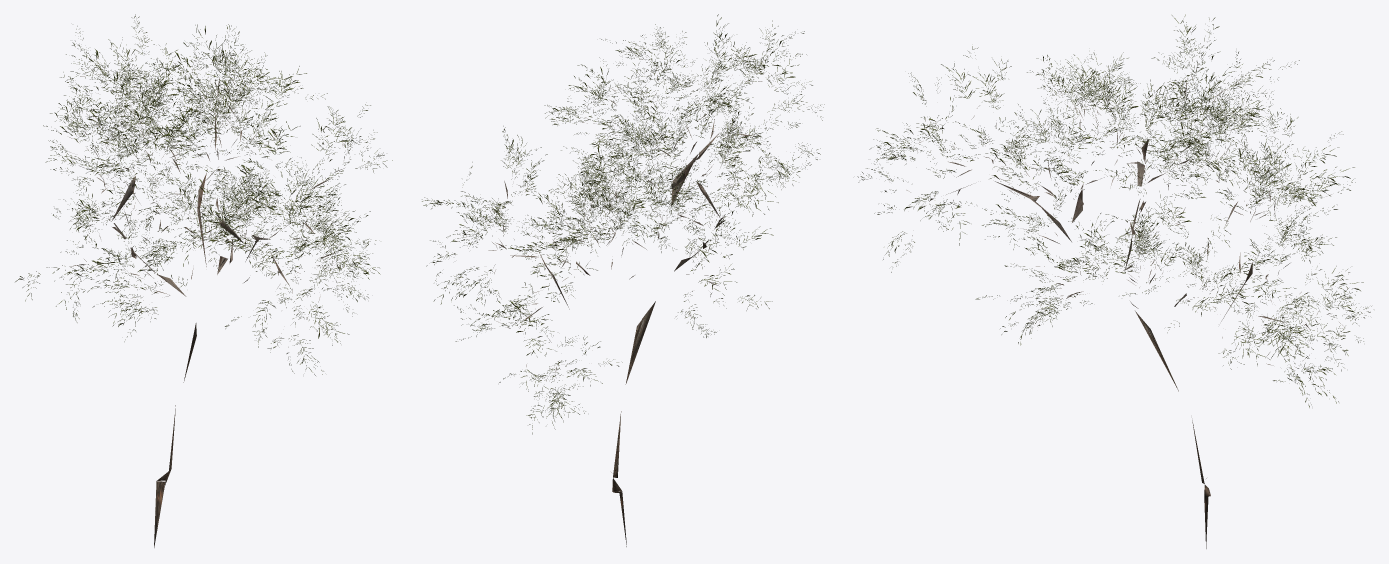
Rendered from street-tree.glb.
3 views of the same model, side by side, from view 1: azimuth 30°, elevation 25°; view 2: azimuth 150°, elevation 25°; view 3: azimuth 270°, elevation 25° (orthographic). The views are drawn at different scales.
Parts seen in each view (by area): view 1: tree_small_02_LOD0; view 2: tree_small_02_LOD0; view 3: tree_small_02_LOD0.
Boxes of the visible parts, x1,y1,x2,y2 form: tree_small_02_LOD0: (15,14,392,547); tree_small_02_LOD0: (422,14,824,546); tree_small_02_LOD0: (857,14,1371,548).
Size of the model in its own units: 0.6309 by 0.9876 by 0.937.
Materials: 3 (3 with a texture image).
